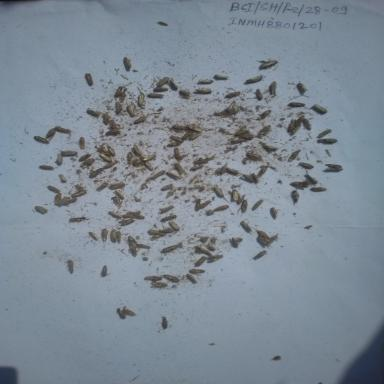pbw: (292, 80, 311, 98), (166, 147, 188, 162), (242, 152, 269, 164), (164, 71, 180, 91), (97, 262, 113, 282), (67, 213, 89, 227), (266, 206, 284, 223), (80, 70, 96, 89), (190, 86, 216, 97), (288, 179, 309, 192), (37, 161, 58, 174), (309, 102, 330, 115), (302, 117, 318, 134), (249, 170, 266, 186), (238, 220, 254, 237), (100, 158, 122, 170), (146, 170, 168, 182), (191, 245, 213, 257), (32, 203, 52, 216), (250, 249, 270, 262), (255, 59, 281, 69), (284, 120, 300, 136), (284, 148, 300, 164), (183, 272, 201, 286), (162, 270, 180, 284), (53, 123, 73, 135), (230, 186, 242, 206), (211, 70, 231, 82), (258, 107, 274, 122), (220, 90, 244, 100), (160, 242, 178, 255), (313, 137, 339, 146), (43, 128, 61, 141), (172, 163, 190, 176), (147, 226, 168, 237), (168, 123, 191, 133), (79, 157, 98, 169), (266, 78, 278, 97), (51, 191, 65, 207), (130, 144, 146, 158), (257, 123, 274, 136), (311, 128, 333, 138), (323, 160, 345, 170), (146, 91, 168, 101), (242, 74, 264, 84), (74, 152, 92, 164), (106, 210, 124, 222), (186, 122, 204, 134), (110, 188, 128, 200), (154, 76, 172, 88), (96, 146, 114, 158), (100, 128, 124, 137), (69, 188, 90, 198), (113, 307, 128, 321), (296, 162, 317, 172), (258, 228, 273, 242), (105, 144, 120, 158), (224, 164, 238, 179), (190, 199, 204, 214), (159, 212, 180, 222), (31, 135, 50, 146), (45, 184, 64, 195), (251, 196, 264, 212), (66, 258, 79, 274), (225, 100, 238, 116), (148, 281, 171, 290), (87, 167, 104, 179), (132, 114, 149, 126), (60, 148, 80, 158), (286, 101, 306, 111), (254, 236, 274, 246), (303, 173, 323, 183), (155, 205, 177, 214), (191, 156, 213, 165), (121, 56, 135, 70), (52, 154, 67, 167), (86, 231, 101, 244), (85, 108, 100, 121), (110, 195, 125, 208), (213, 184, 226, 199), (112, 100, 124, 116), (106, 118, 122, 130), (168, 221, 184, 233), (125, 244, 141, 256), (220, 103, 244, 111), (239, 200, 251, 216), (126, 102, 138, 118), (186, 132, 202, 144), (310, 186, 329, 196), (109, 180, 128, 190), (121, 308, 140, 318), (135, 240, 152, 251), (236, 192, 249, 206), (112, 86, 125, 100), (76, 137, 89, 151), (192, 255, 207, 267), (99, 152, 114, 164), (206, 253, 224, 263), (141, 152, 159, 162), (166, 170, 181, 182), (262, 143, 280, 153), (234, 128, 252, 138), (208, 205, 230, 213), (94, 181, 110, 192), (159, 314, 170, 330), (158, 182, 175, 192), (142, 273, 159, 283), (100, 226, 110, 243), (256, 166, 269, 179), (254, 86, 266, 100), (265, 234, 279, 246), (229, 238, 241, 252), (136, 92, 148, 106), (187, 268, 208, 276), (126, 234, 138, 248), (219, 161, 230, 176), (116, 218, 134, 227), (102, 109, 111, 127), (149, 85, 169, 93), (228, 137, 248, 145), (57, 173, 70, 185), (241, 172, 254, 184), (59, 194, 70, 208), (122, 209, 144, 216), (179, 130, 194, 140), (150, 230, 165, 240), (114, 230, 124, 245), (294, 114, 306, 126), (200, 198, 212, 210), (198, 77, 214, 86), (178, 88, 192, 98), (124, 150, 135, 162), (110, 228, 118, 244), (168, 134, 184, 142), (156, 19, 170, 28), (157, 227, 175, 234), (143, 161, 158, 169), (239, 133, 256, 140), (167, 140, 183, 147), (63, 197, 78, 204), (190, 164, 205, 171), (291, 190, 298, 204)
